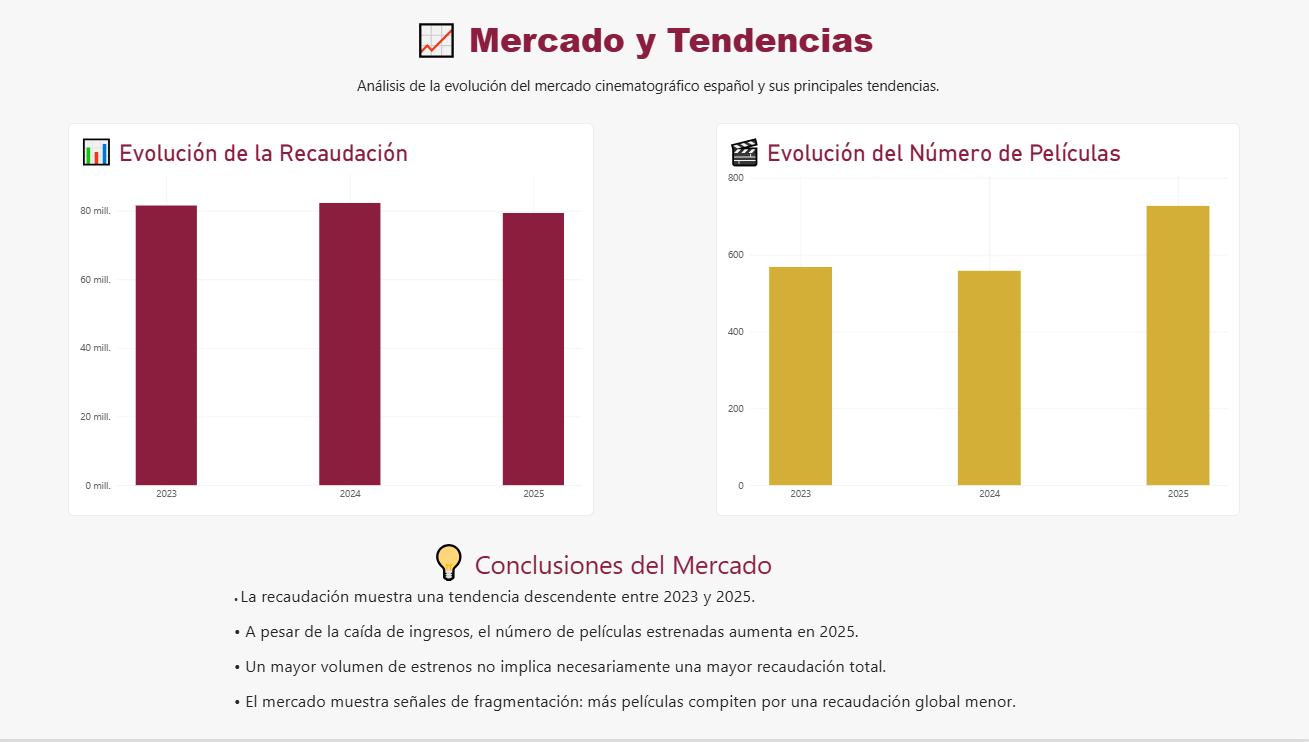

The dashboard page shown, as its layout file describes it:
{"tool":"powerbi","page":{"name":"📈 Mercado y Tendencias ``","canvas":[1920,1080],"ordinal":3},"visuals":[{"type":"textbox","box":[615.7,24.8,687.2,74.4],"z":0},{"type":"textbox","box":[531.1,110.9,856.4,46.7],"z":1000},{"type":"clusteredColumnChart","title":"📊 Evolución de la Recaudación","fields":{"Category":["taquilla_limpia.anio"],"Y":["Sum(taquilla_limpia.recaudacion)"]},"box":[109.4,180.9,767.4,573.4],"z":2000},{"type":"clusteredColumnChart","title":"🎬 Evolución del Número de Películas","fields":{"Category":["taquilla_limpia.anio"],"Y":["CountNonNull(taquilla_limpia.rank)"]},"box":[1054.8,180.9,764.5,573.4],"z":3000},{"type":"textbox","box":[351.6,853.5,1143.8,205.7],"z":4000},{"type":"textbox","box":[640.5,786.4,637.6,67.1],"z":5000}]}

Visuals, with their boxes in screenshot pixels (x1, y1, x2, y2), scaled from the page's 1920x1080 canvas onto the 1309x742 screenshot:
textbox: <box>420,17,888,68</box>
textbox: <box>362,76,946,108</box>
"📊 Evolución de la Recaudación" clusteredColumnChart: <box>75,124,598,518</box>
"🎬 Evolución del Número de Películas" clusteredColumnChart: <box>719,124,1240,518</box>
textbox: <box>240,586,1020,728</box>
textbox: <box>437,540,871,586</box>
